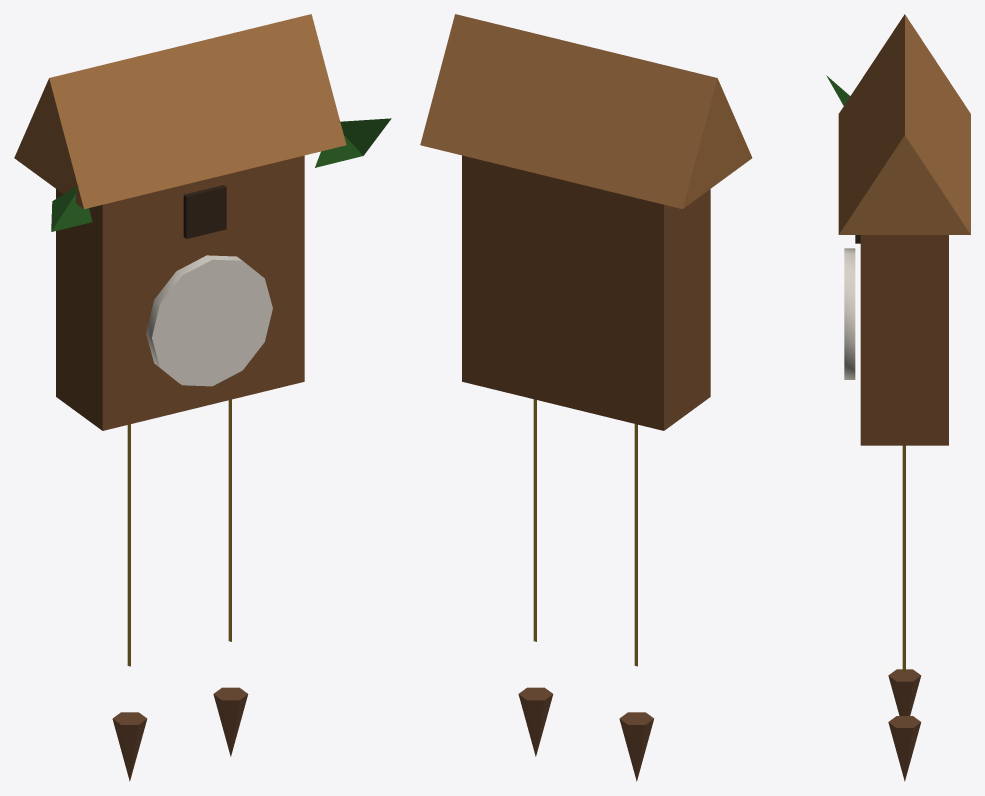
Rendered from cuckoo_clock.glb.
3 views of the same model, side by side, from view 1: azimuth 30°, elevation 25°; view 2: azimuth 150°, elevation 25°; view 3: azimuth 270°, elevation 25° (orthographic). The views are drawn at different scales.
Visible parts, largest first — view 1: furniture-cuckoo_clock; view 2: furniture-cuckoo_clock; view 3: furniture-cuckoo_clock.
Part boxes in pixels (left/top/right/bottom): furniture-cuckoo_clock: left=14, top=14, right=391, bottom=781; furniture-cuckoo_clock: left=420, top=14, right=752, bottom=781; furniture-cuckoo_clock: left=826, top=14, right=970, bottom=781.
Bounding box in the file's own units: 0.6727 × 1.37 × 0.2629.
